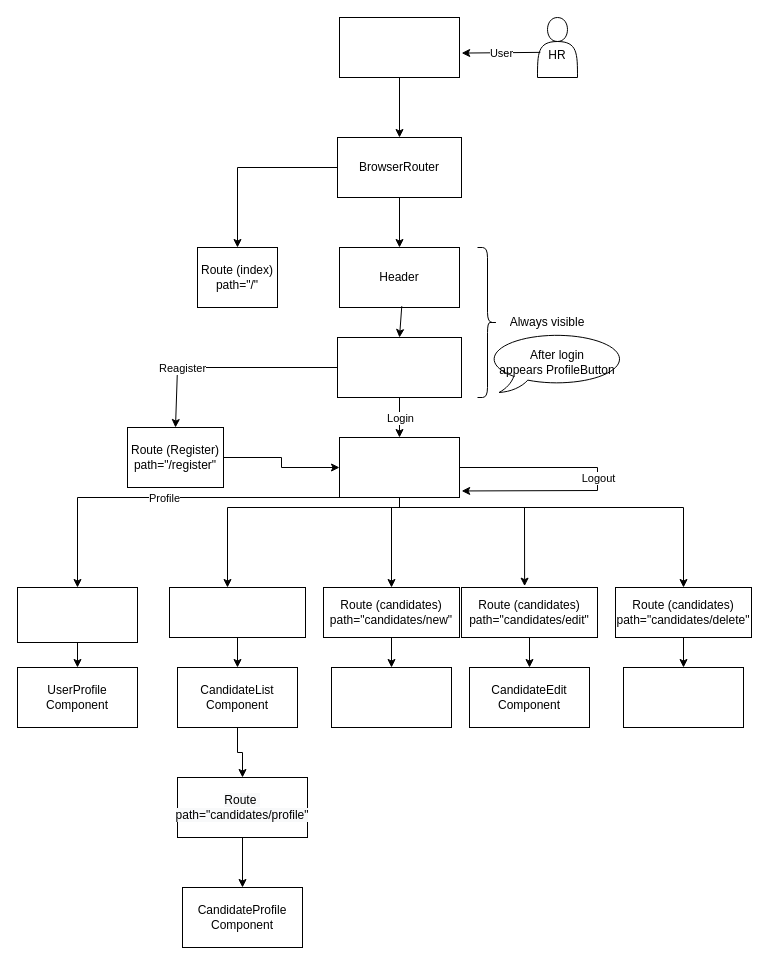
Image size: 769x965. Some labels were removed from this diagram. Each missing label, with the centre of its shape:
App: [399,47]
CandidateCreate Component: [391,697]
CandidateDelete Component: [683,697]
LoginButton RegisterButton LogoutButton: [399,367]
Route (candidates) path="candidates/list": [237,612]
Route (Login) path="/login": [399,467]
Route path="/user": [77,614]
